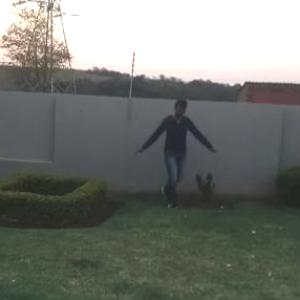land: (135, 99, 217, 213)
